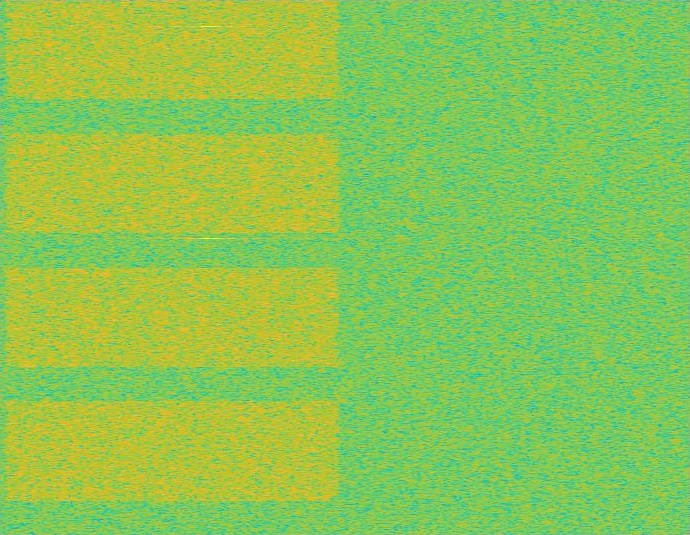5G: (0, 0, 345, 534)
Radar: (203, 0, 217, 534)
